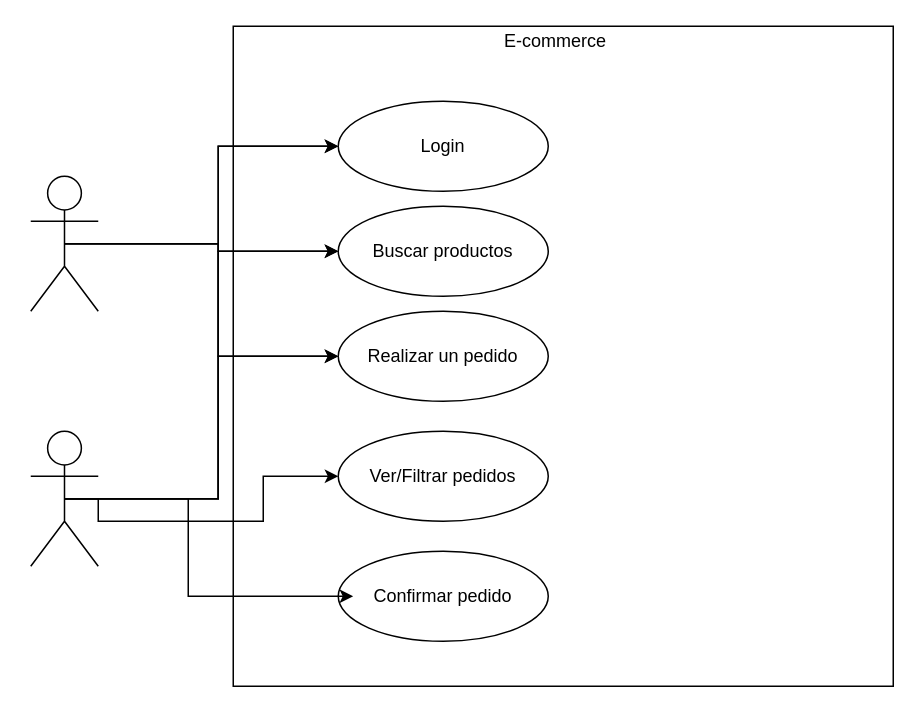
The diagram is 920 pixels wide and 713 high, and some of its shapes have lost their labels. The centre of each missing label's shape, as x and y in pixels:
"Invitado" goes at (x=63, y=243).
"Vendedor" goes at (x=63, y=498).
